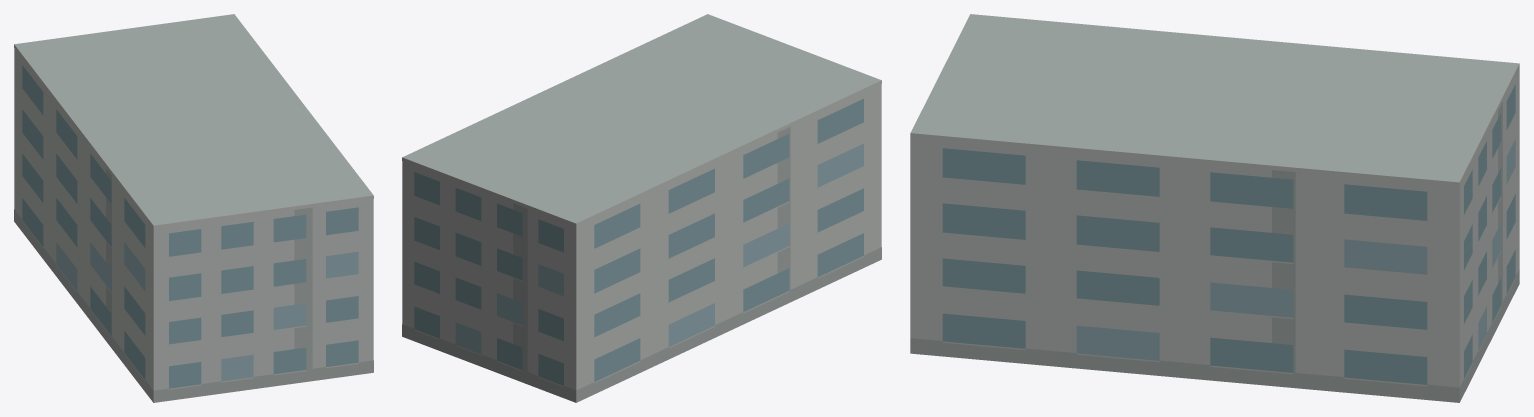
Rendered from residential-434076f7-dd6c-4cf6-9d45-4eb3d4160bd3.glb.
3 renders of one model, left to right at view 1: azimuth 30°, elevation 25°; view 2: azimuth 150°, elevation 25°; view 3: azimuth 270°, elevation 25°, orthographic. The views are drawn at different scales.
Parts seen in each view (by area): view 1: residential-434076f7-dd6c-4cf6-9d45-4eb3d4160bd3.tmp; view 2: residential-434076f7-dd6c-4cf6-9d45-4eb3d4160bd3.tmp; view 3: residential-434076f7-dd6c-4cf6-9d45-4eb3d4160bd3.tmp.
Boxes of the visible parts, x1=… form: residential-434076f7-dd6c-4cf6-9d45-4eb3d4160bd3.tmp: x1=14, y1=14, x2=373, y2=402; residential-434076f7-dd6c-4cf6-9d45-4eb3d4160bd3.tmp: x1=402, y1=14, x2=881, y2=402; residential-434076f7-dd6c-4cf6-9d45-4eb3d4160bd3.tmp: x1=910, y1=14, x2=1519, y2=402.
Size of the model in its own units: 20 by 12.2 by 30.56.
